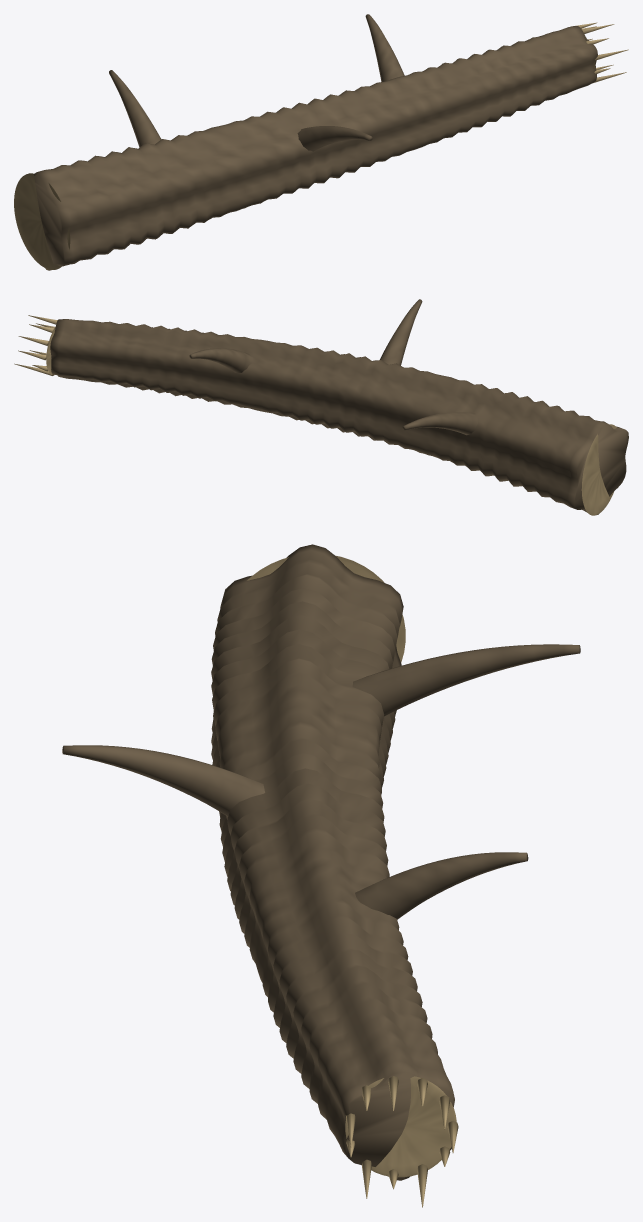
Rendered from submerged-log.glb.
The picture shows the model from 3 angles, top to bottom: view 1: azimuth 30°, elevation 25°; view 2: azimuth 150°, elevation 25°; view 3: azimuth 270°, elevation 25°; orthographic projection. The views are drawn at different scales.
Visible parts, largest first — view 1: submerged-log; view 2: submerged-log; view 3: submerged-log.
Boxes of the visible parts, x1,y1,x2,y2 form: submerged-log: (14,14,628,270); submerged-log: (14,299,628,515); submerged-log: (62,544,580,1207).
Bounding box in the file's own units: 3.26 × 0.6231 × 1.29.
